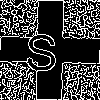S: (25, 25, 59, 71)
